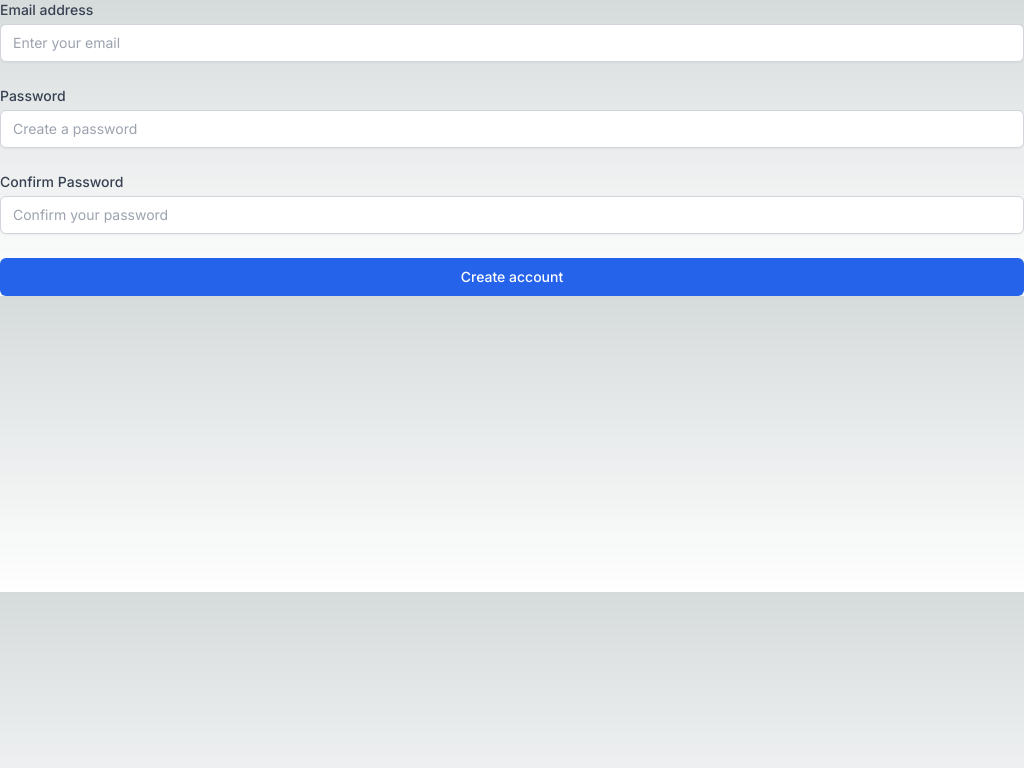
it: RegisterForm › shows password mismatch error
In the password field labelled "Password": (512, 129) [0, 110, 1023, 148], type "Password123!"
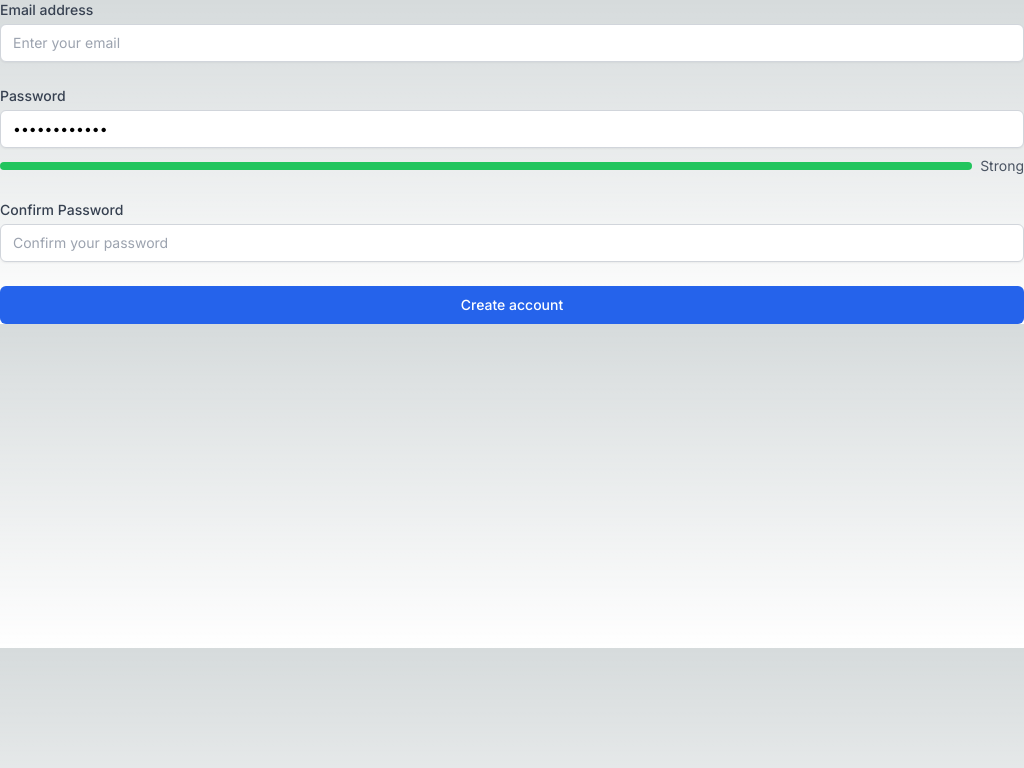
In the password field labelled "Confirm Password": (512, 243) [0, 224, 1023, 262], type "DifferentPassword123!"
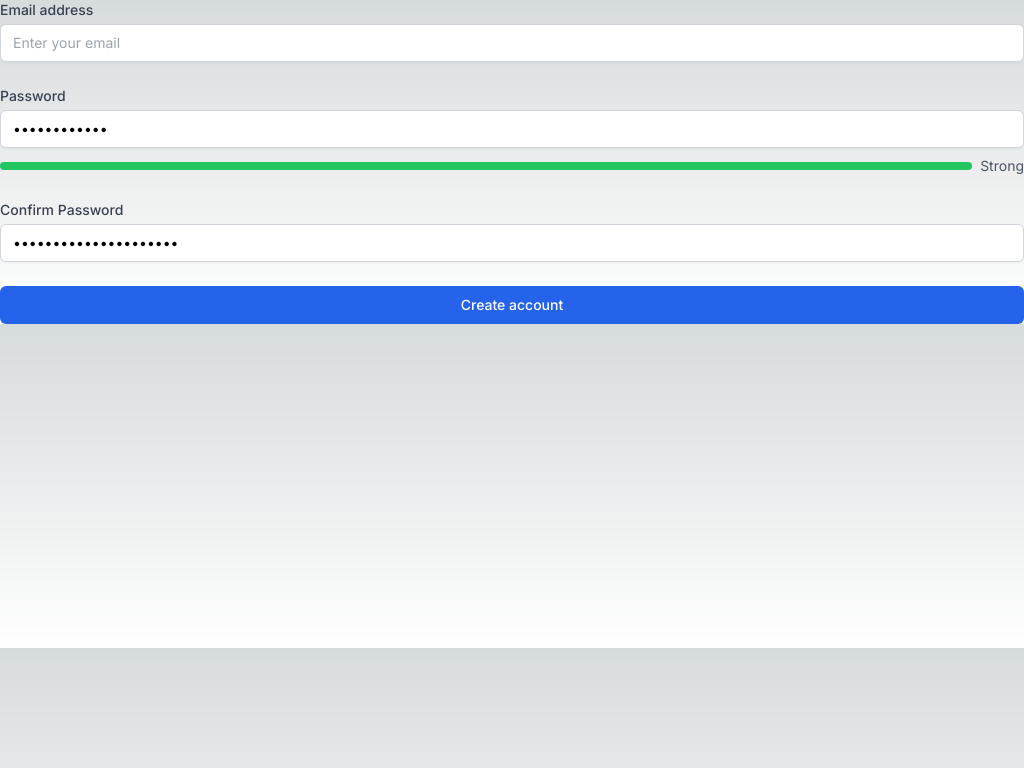
Click the button "Create account": click(512, 305) [0, 286, 1023, 324]
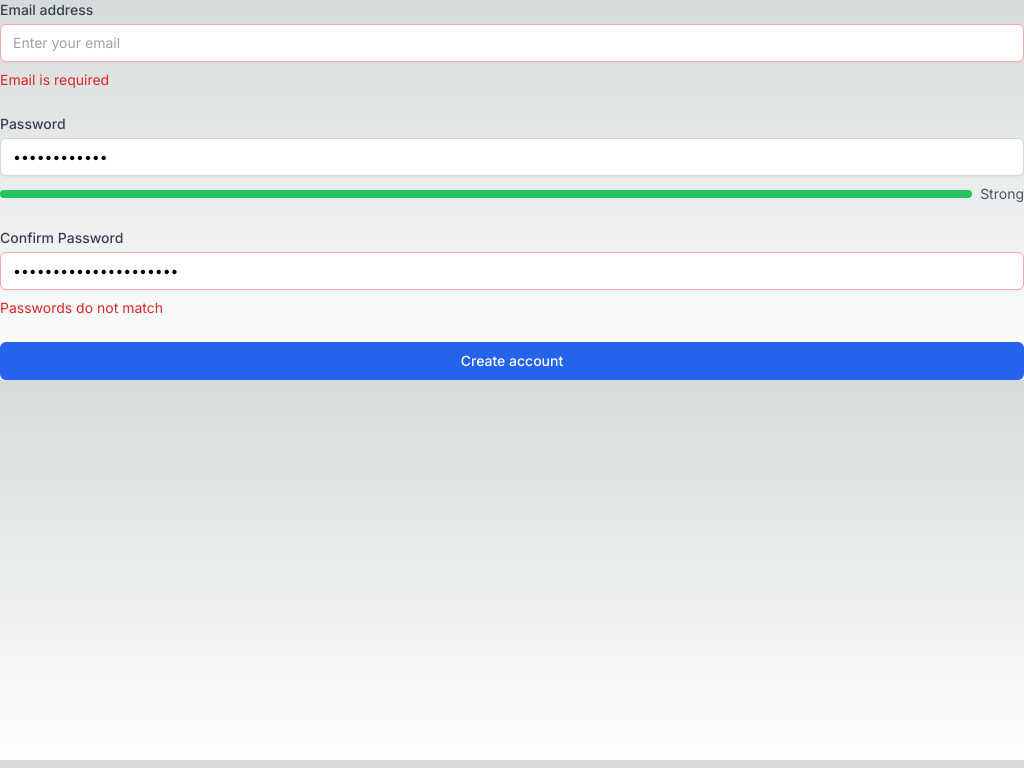
Result: the text "Passwords do not match" is shown at [0, 299, 163, 316]
